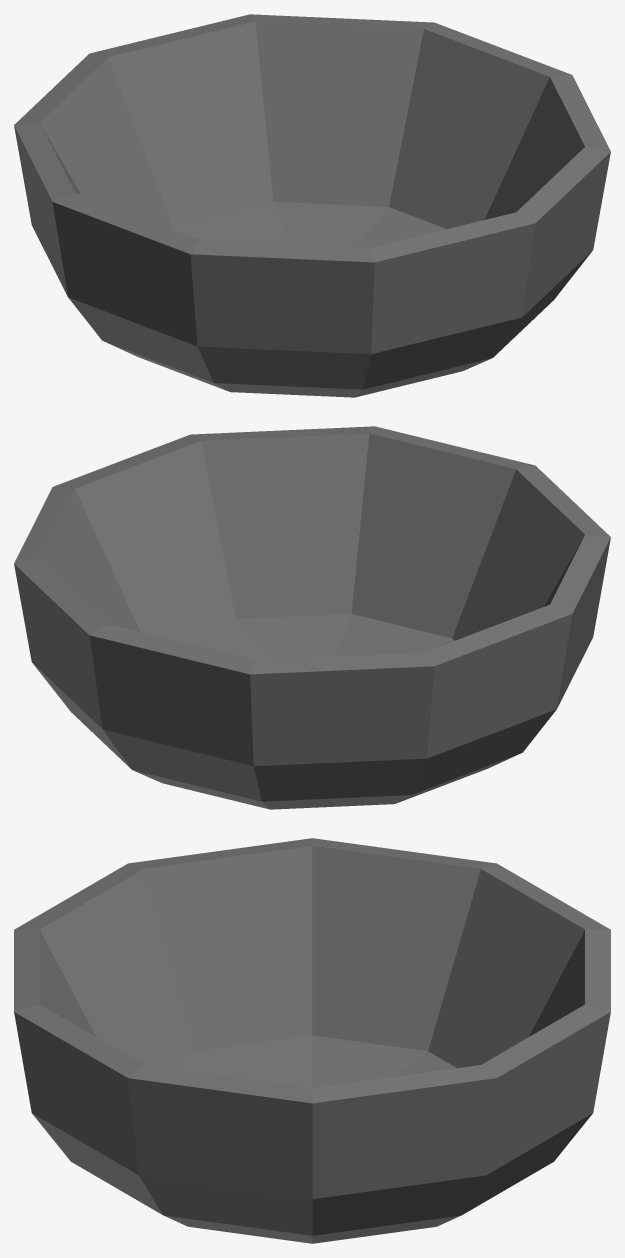
File: bowl.fbx
3 renders of one model, top to bottom at view 1: azimuth 30°, elevation 25°; view 2: azimuth 150°, elevation 25°; view 3: azimuth 270°, elevation 25°, orthographic. The views are drawn at different scales.
Visible parts, largest first — view 1: pCylinder5; view 2: pCylinder5; view 3: pCylinder5.
Part boxes in pixels (x1,y1,x2,y2): pCylinder5: (14, 14, 610, 397); pCylinder5: (14, 426, 610, 809); pCylinder5: (14, 838, 610, 1243).
Size of the model in its own units: 0.2608 by 0.0859 by 0.248.
